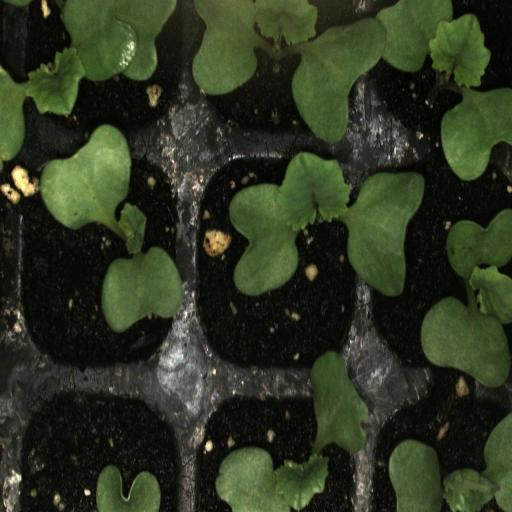Folha: (0, 0, 512, 181)
Germinacao: (10, 152, 189, 382), (190, 151, 370, 378), (375, 157, 512, 382), (13, 0, 190, 151), (191, 0, 364, 151), (192, 382, 370, 512), (369, 0, 512, 151), (374, 381, 512, 511)
